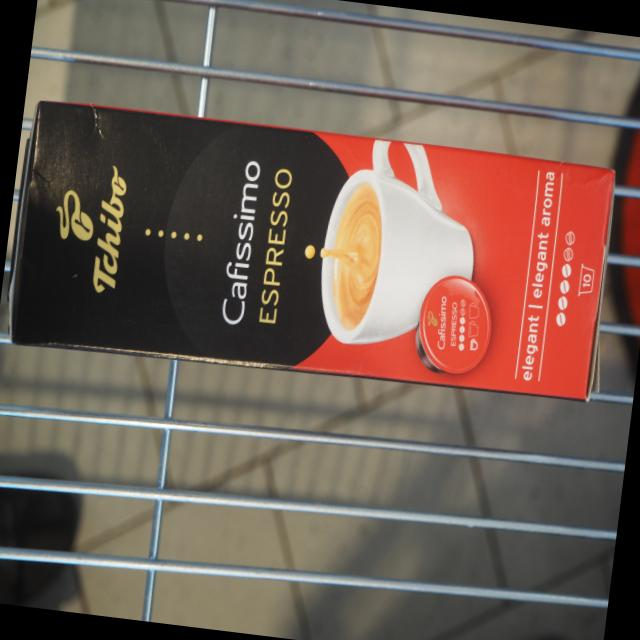Simo Es Elegant: (2, 94, 623, 408)
